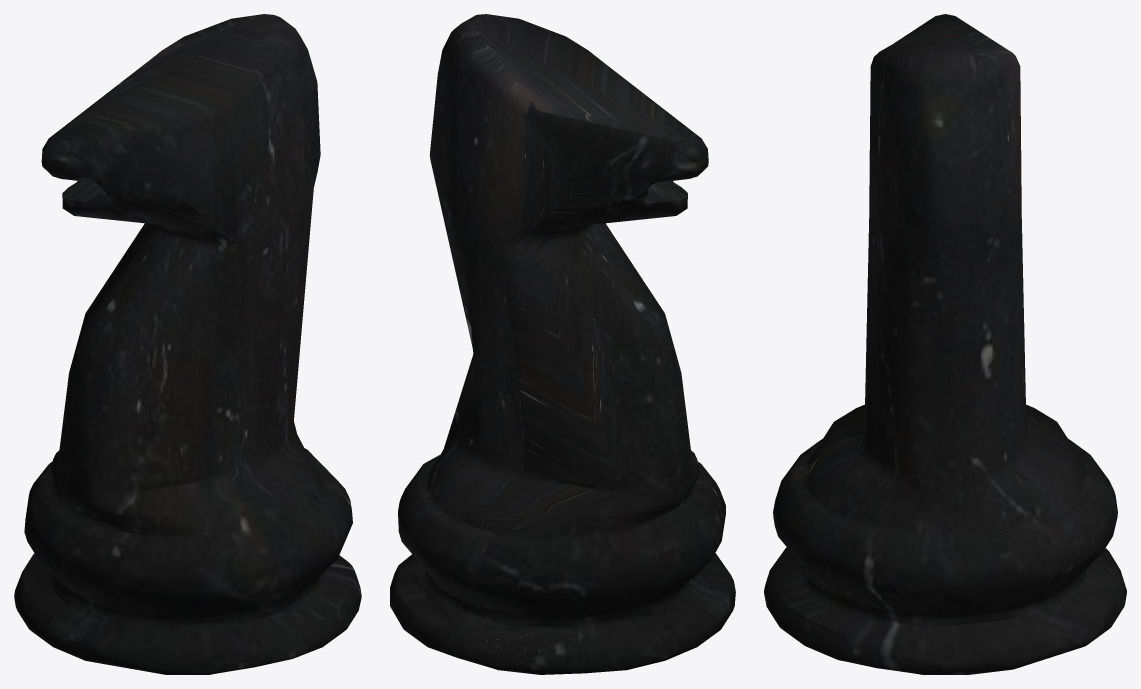
File: Knight.obj
The picture shows the model from 3 angles, left to right: view 1: azimuth 30°, elevation 25°; view 2: azimuth 150°, elevation 25°; view 3: azimuth 270°, elevation 25°; orthographic projection. The views are drawn at different scales.
Visible parts, largest first — view 1: mesh01.002; view 2: mesh01.002; view 3: mesh01.002.
Part boxes in pixels (<box>): mesh01.002: <box>14,14,361,674</box>; mesh01.002: <box>390,14,735,674</box>; mesh01.002: <box>764,14,1126,674</box>.
Size of the model in its own units: 11.27 by 20.23 by 11.27.
Materials: 1 (1 with a texture image).
